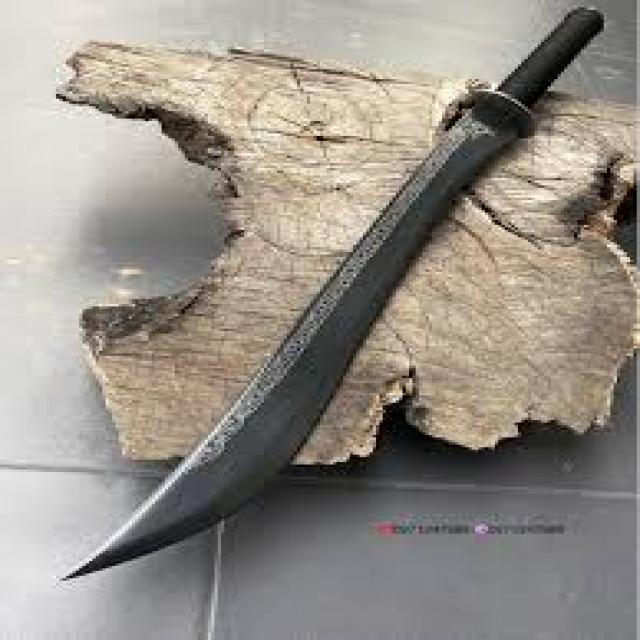long sword: (54, 7, 606, 580)
